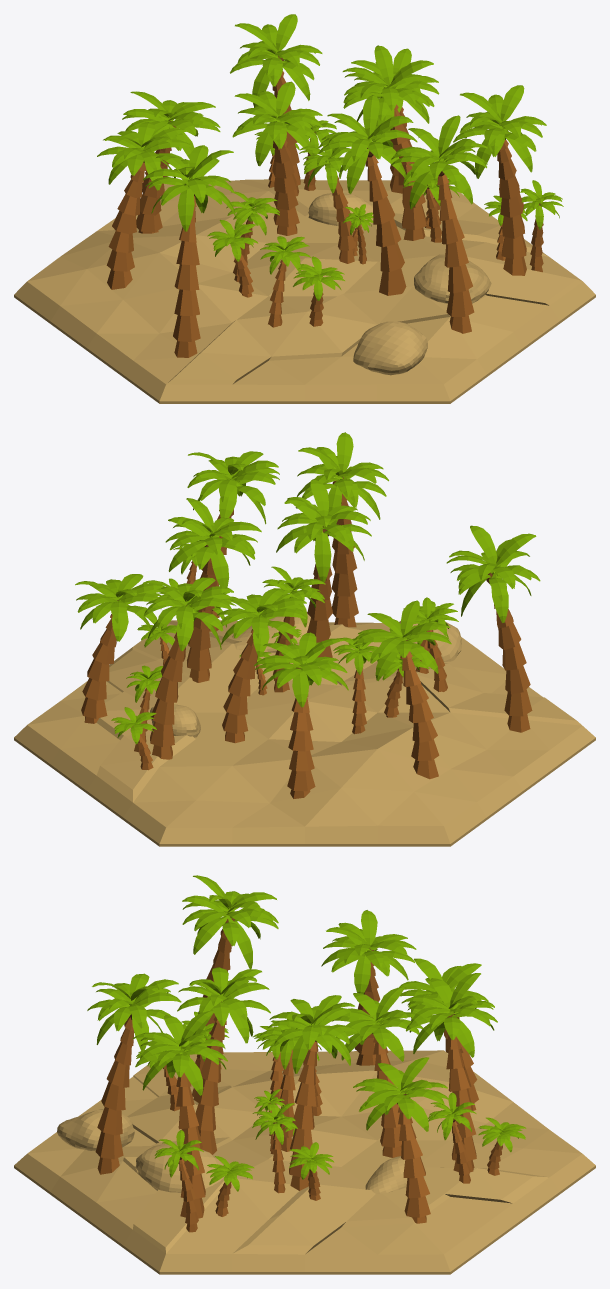
File: beach.glb
The picture shows the model from 3 angles, top to bottom: view 1: azimuth 30°, elevation 25°; view 2: azimuth 150°, elevation 25°; view 3: azimuth 270°, elevation 25°; orthographic projection.
Visible parts, largest first — view 1: desert; view 2: desert; view 3: desert.
Boxes of the visible parts, left/top/right/bottom form: desert: left=14, top=14, right=595, bottom=403; desert: left=14, top=432, right=595, bottom=846; desert: left=14, top=875, right=595, bottom=1274.
Bounding box in the file's own units: 1.73 × 0.8252 × 2.
